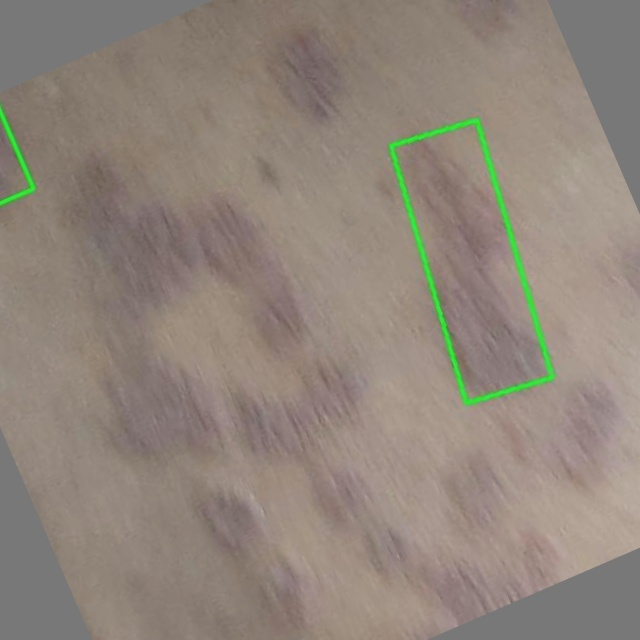Tinea Corporis: (391, 120, 553, 403)
